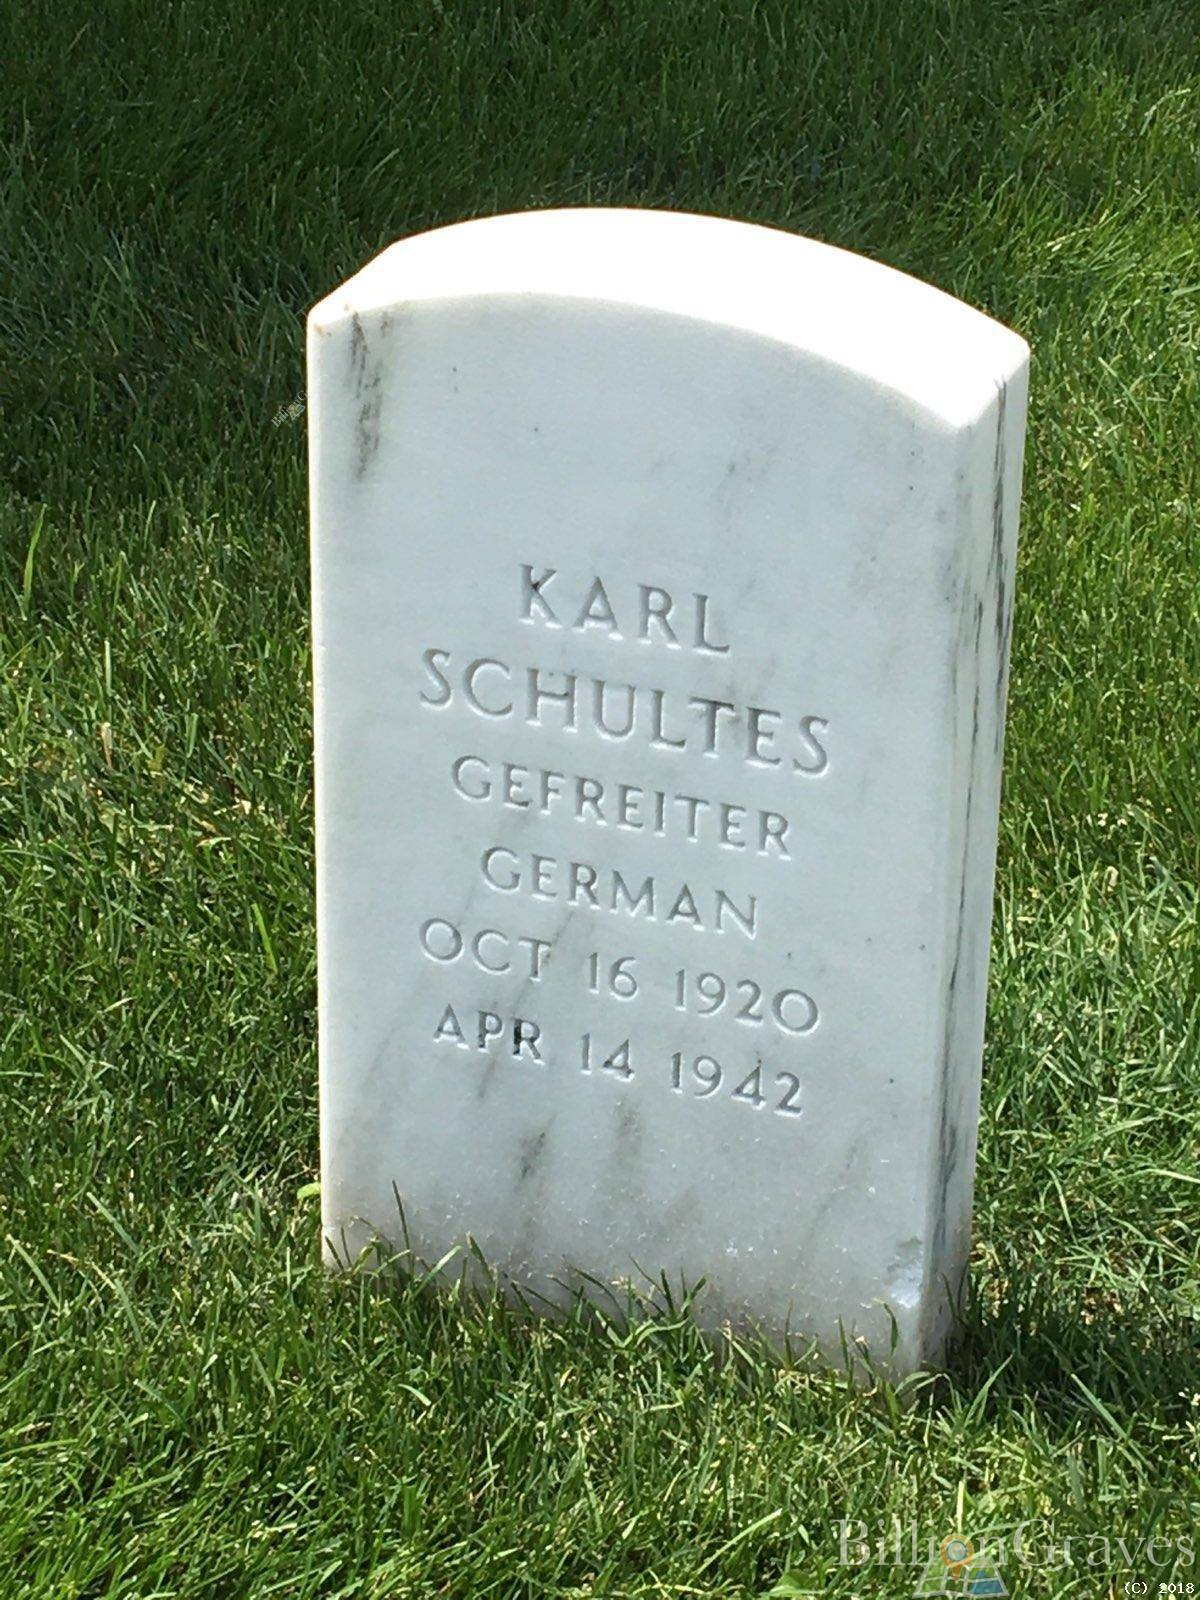military: (284, 184, 1044, 1435)
